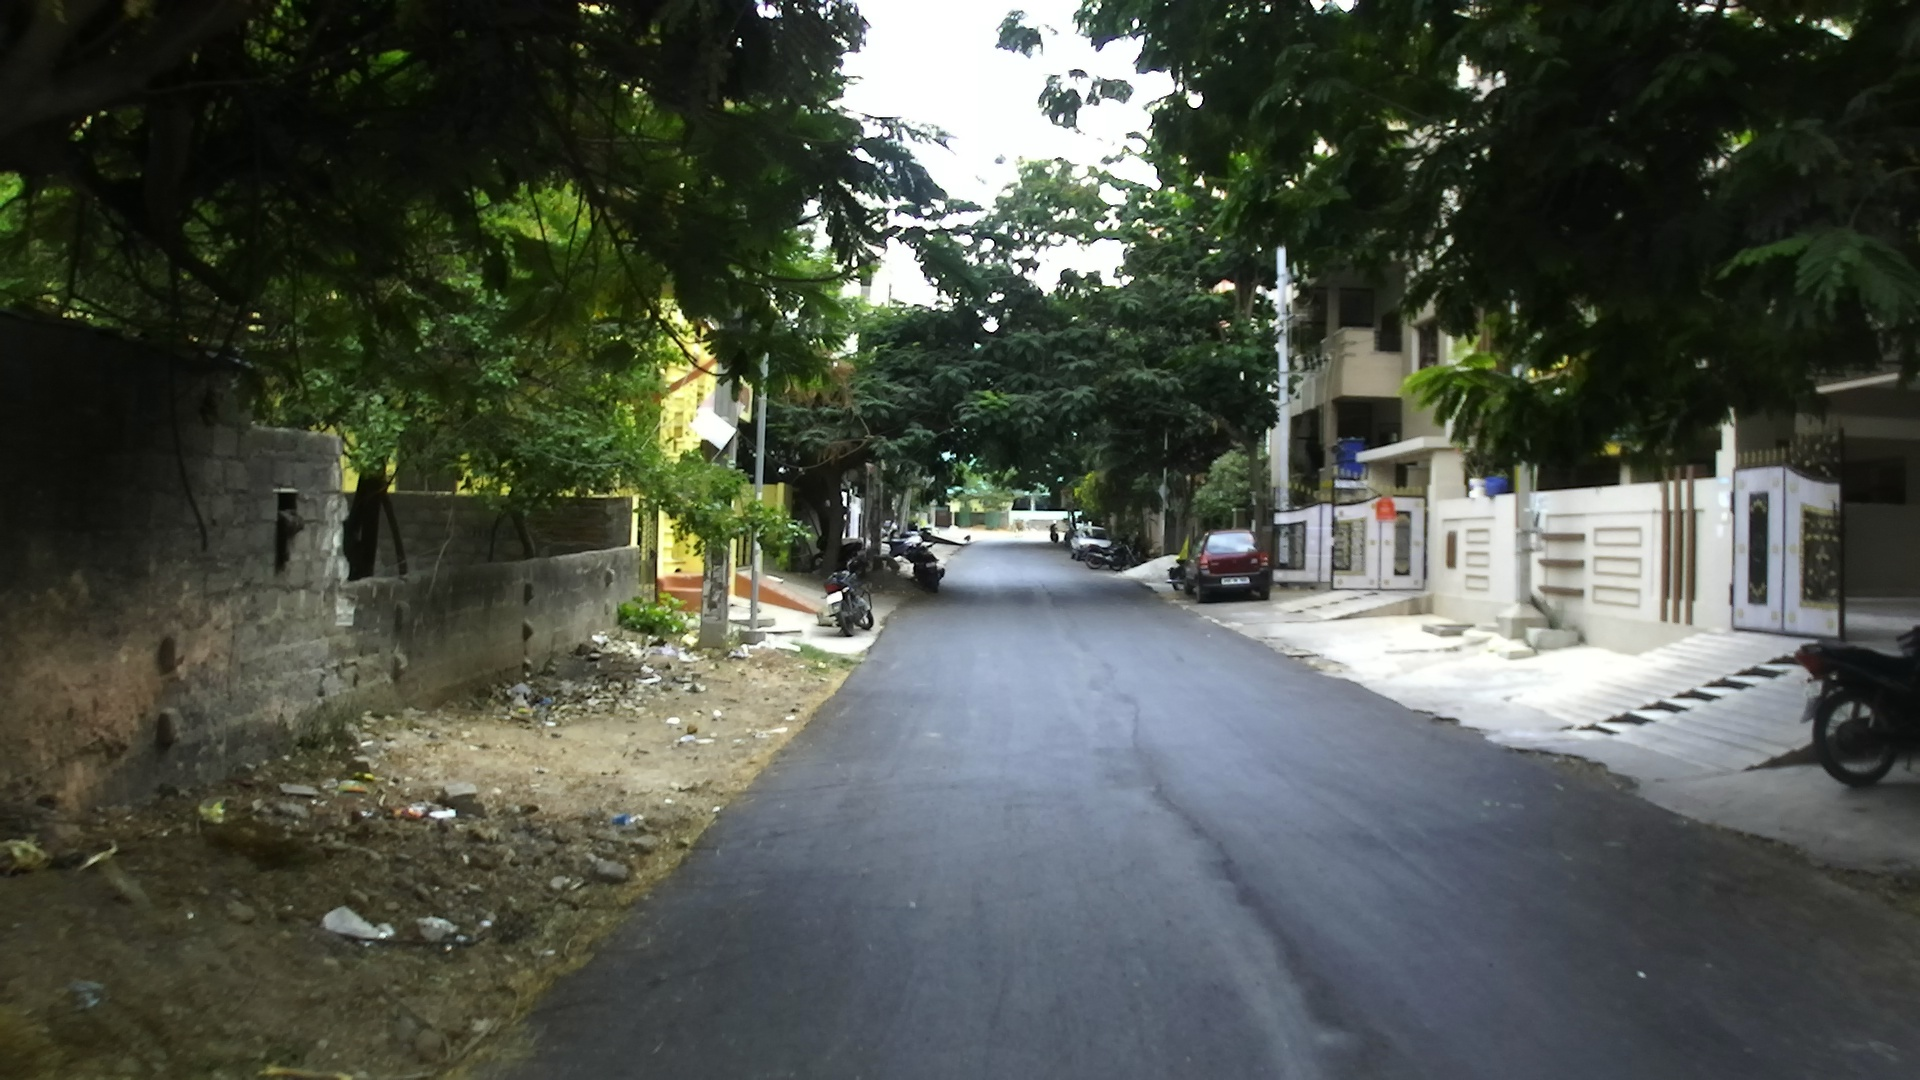vehicle: (1788, 624, 1919, 789), (1189, 529, 1273, 601), (890, 525, 957, 589), (1073, 537, 1129, 570), (1072, 533, 1114, 568)
